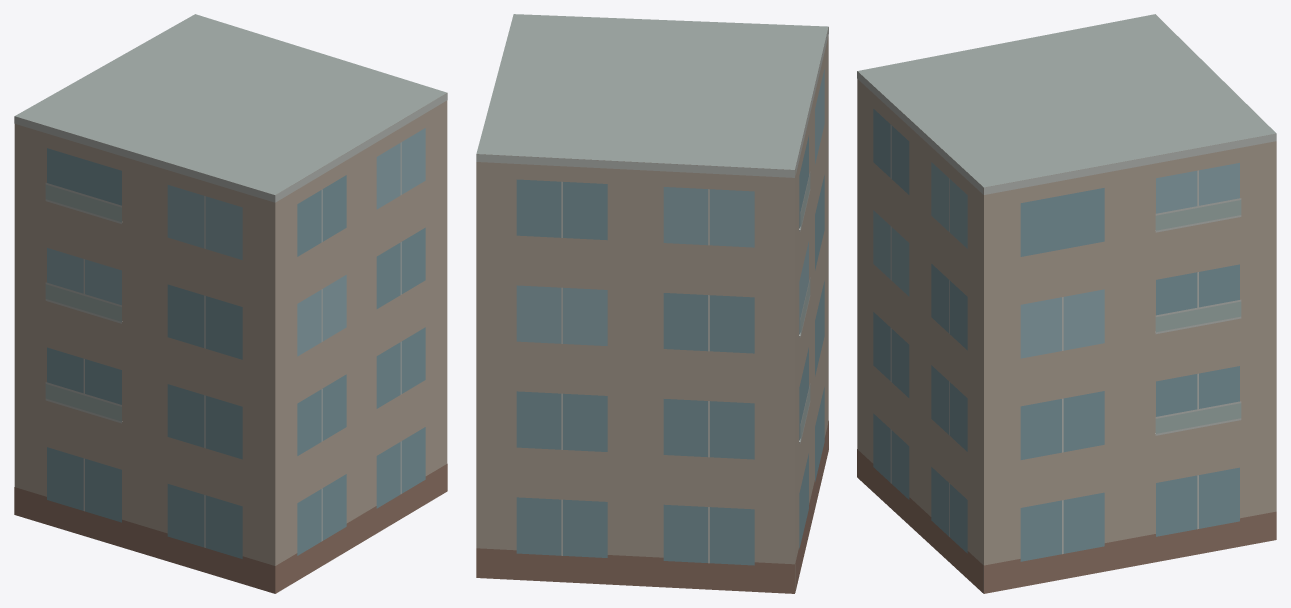
The model's file is survey-upis-32968442.glb.
3 views of the same model, side by side, from view 1: azimuth 30°, elevation 25°; view 2: azimuth 150°, elevation 25°; view 3: azimuth 270°, elevation 25° (orthographic). The views are drawn at different scales.
Visible parts, largest first — view 1: survey-upis-32968442.tmp; view 2: survey-upis-32968442.tmp; view 3: survey-upis-32968442.tmp.
Boxes of the visible parts, left/top/right/bottom form: survey-upis-32968442.tmp: left=14, top=14, right=447, bottom=593; survey-upis-32968442.tmp: left=476, top=14, right=828, bottom=593; survey-upis-32968442.tmp: left=857, top=14, right=1276, bottom=593.
Size of the model in its own units: 11.91 by 13 by 12.17.
